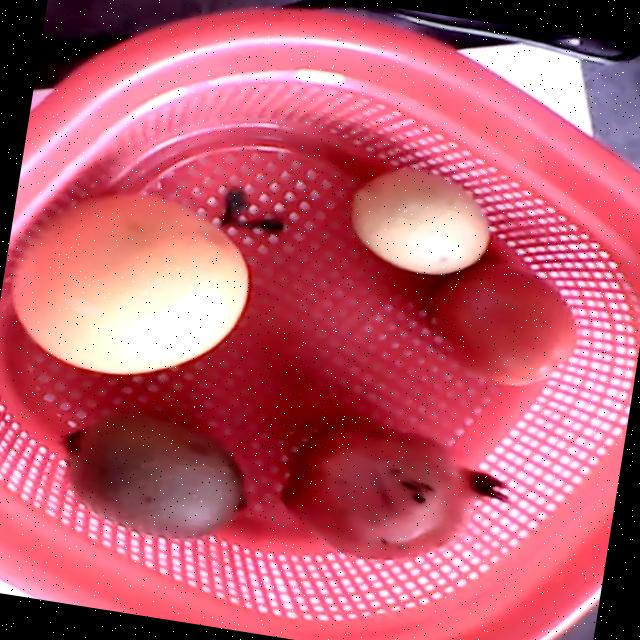kiwi: (63, 410, 249, 539)
lemon: (347, 169, 487, 273)
orange: (12, 188, 282, 374)
pomegranate: (279, 424, 507, 562)
tomato: (428, 258, 577, 386)
